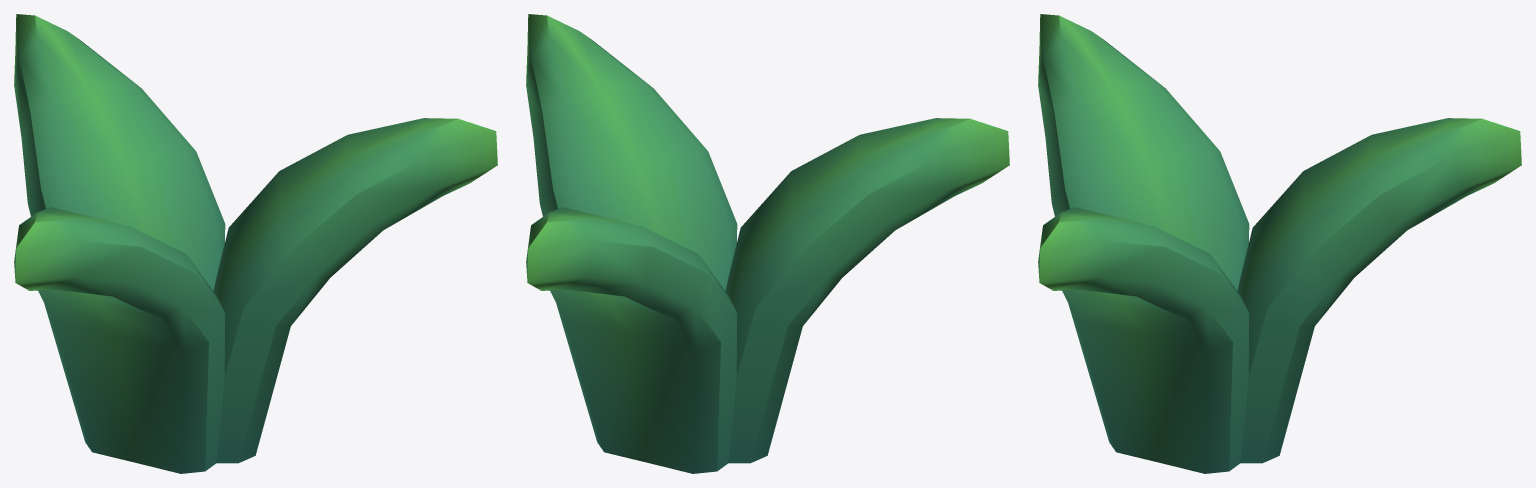
The model's file is prop_park_grass_a.glb.
3 views of the same model, side by side, from view 1: azimuth 30°, elevation 25°; view 2: azimuth 150°, elevation 25°; view 3: azimuth 270°, elevation 25° (orthographic).
Visible parts, largest first — view 1: grass_A; view 2: grass_A; view 3: grass_A.
Boxes of the visible parts, left/top/right/bottom form: grass_A: left=14, top=14, right=497, bottom=473; grass_A: left=526, top=14, right=1009, bottom=473; grass_A: left=1038, top=14, right=1521, bottom=473.
Size of the model in its own units: 0.6439 by 0.4022 by 0.5592.
1 material, 1 textured.
